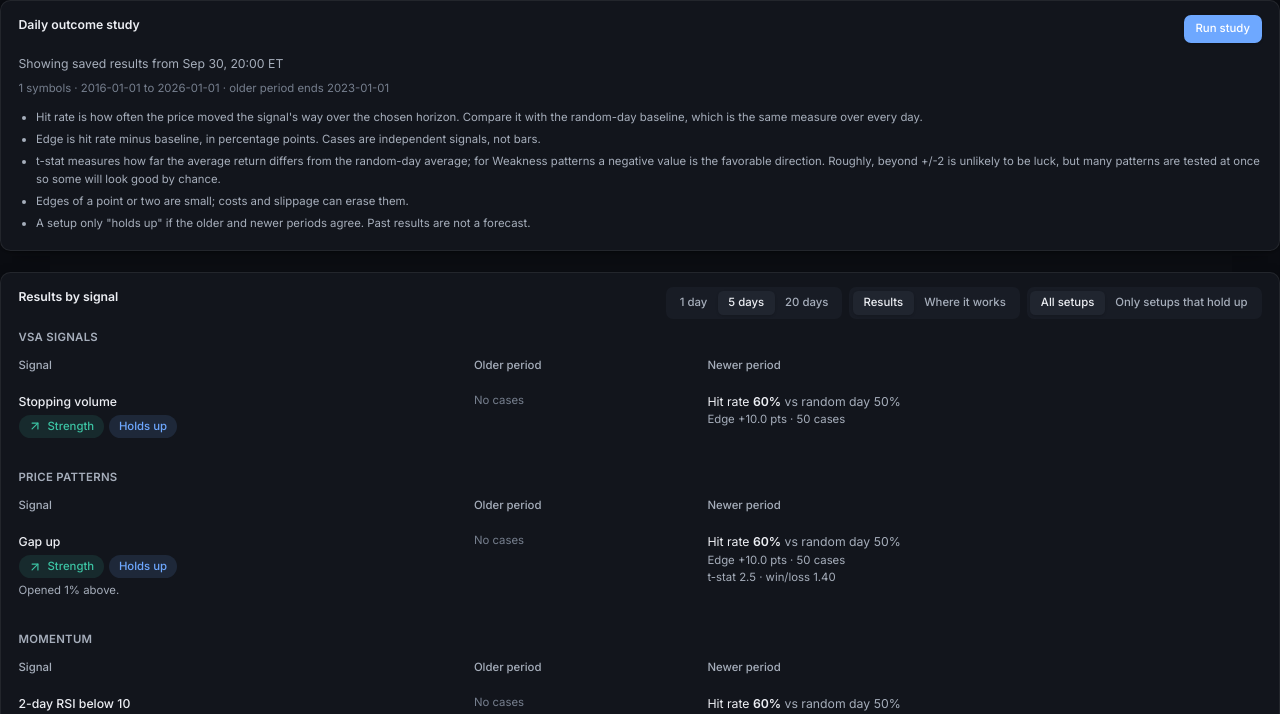
Test: OutcomesBoard › groups new patterns with labels, descriptions, extra stats and a breakdown view
Check: the text "Gap up" is shown, box [18, 534, 60, 549]
Check: the text "Opened 1% above." is shown, box [18, 583, 119, 597]
Step 1. Click the radio button "Where it works" → (965, 303), box [914, 291, 1016, 315]
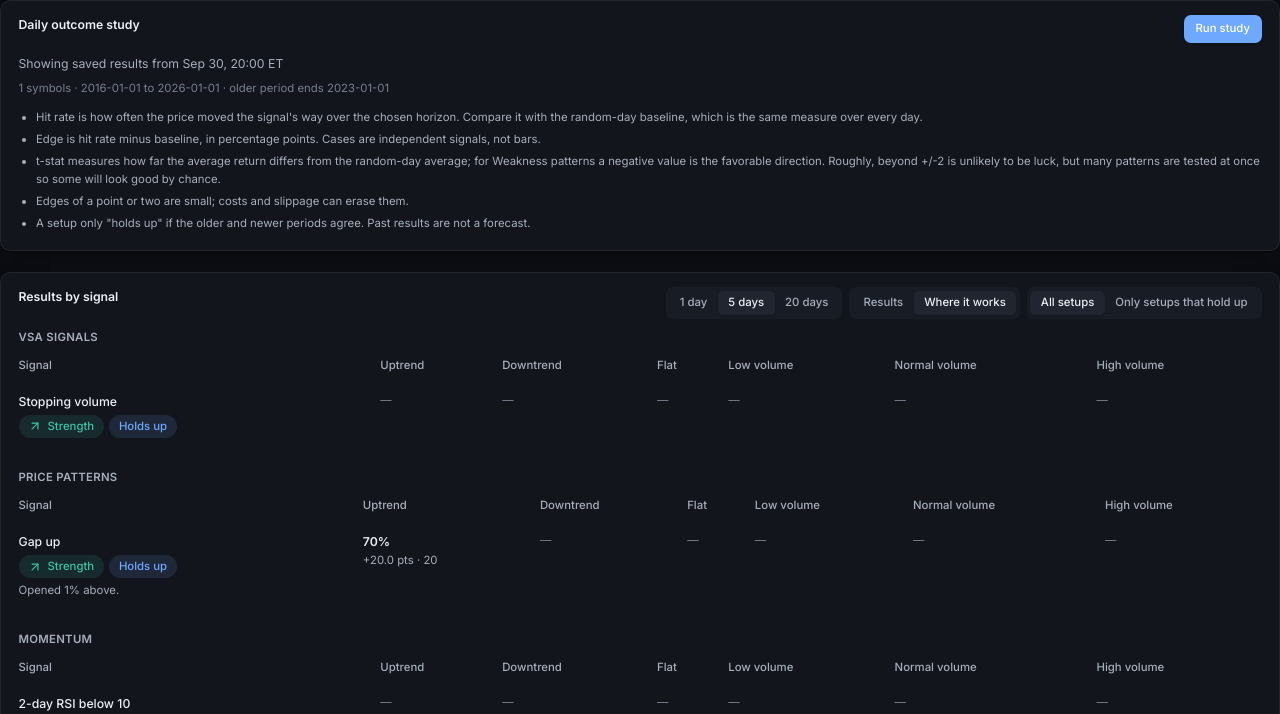
Check: the text "70%" is shown, box [363, 534, 390, 549]
